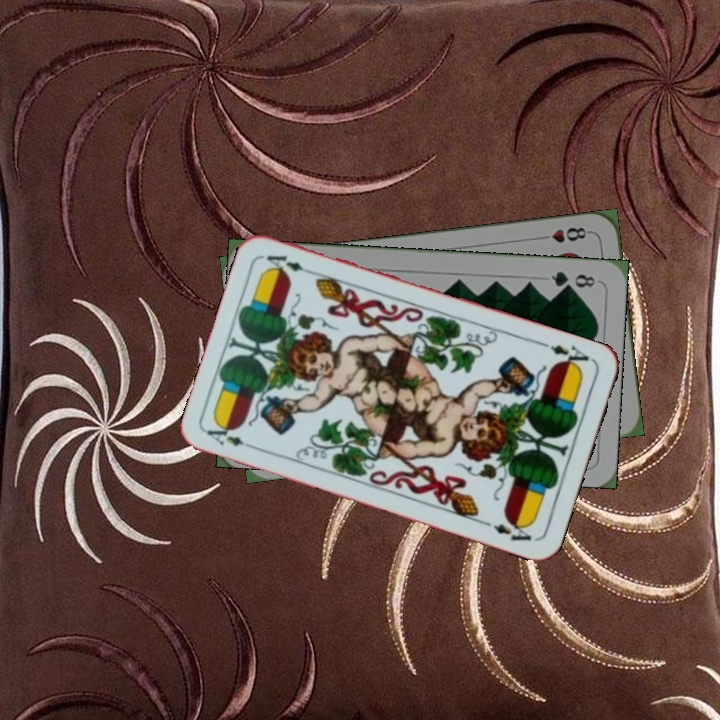EA: (537, 338, 595, 372), (203, 420, 261, 453)
G8: (547, 267, 598, 291)
H8: (534, 223, 593, 246)
